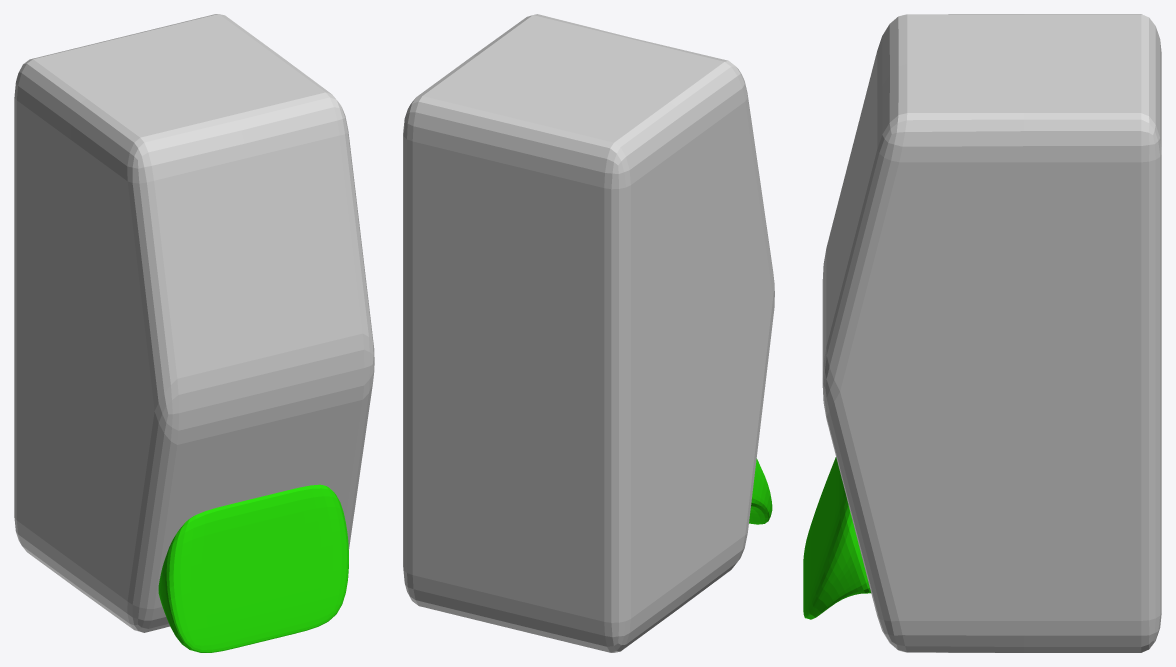
File: HandRepair.fbx
The picture shows the model from 3 angles, left to right: view 1: azimuth 30°, elevation 25°; view 2: azimuth 150°, elevation 25°; view 3: azimuth 270°, elevation 25°; orthographic projection. The views are drawn at different scales.
Visible parts, largest first — view 1: HandRepair, Cube.005; view 2: HandRepair, Cube.005; view 3: HandRepair, Cube.005.
Boxes of the visible parts, x1,y1,x2,y2 form: HandRepair: (14,14,374,632); Cube.005: (158,484,348,652); HandRepair: (403,14,774,652); Cube.005: (749,458,772,524); HandRepair: (822,14,1161,652); Cube.005: (803,457,870,619).
Size of the model in its own units: 17.78 by 23.17 by 38.47.
